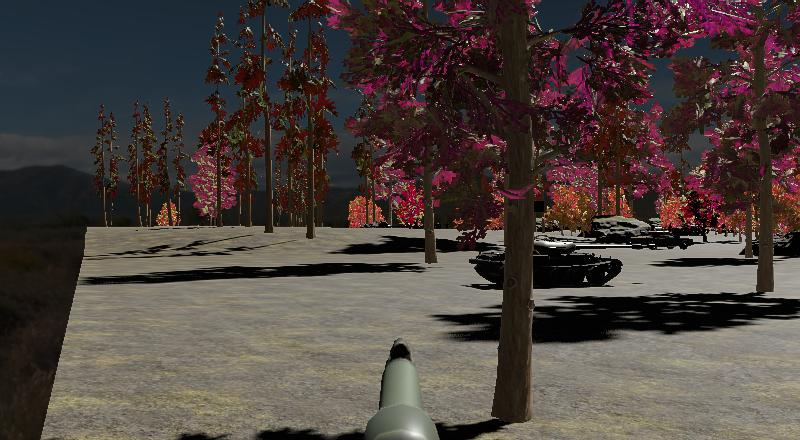Tank: (465, 227, 628, 291)
